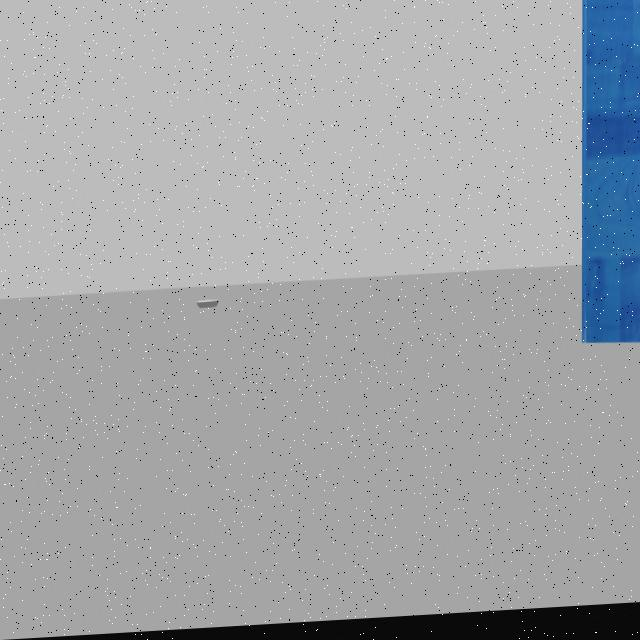bowl: (192, 292, 220, 313)
shelf: (573, 0, 640, 361)
